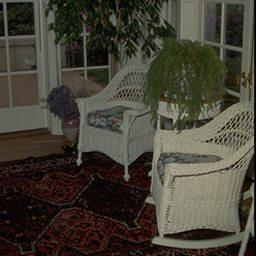Matera: (150, 42, 225, 121)
Puerta: (0, 3, 49, 136)
